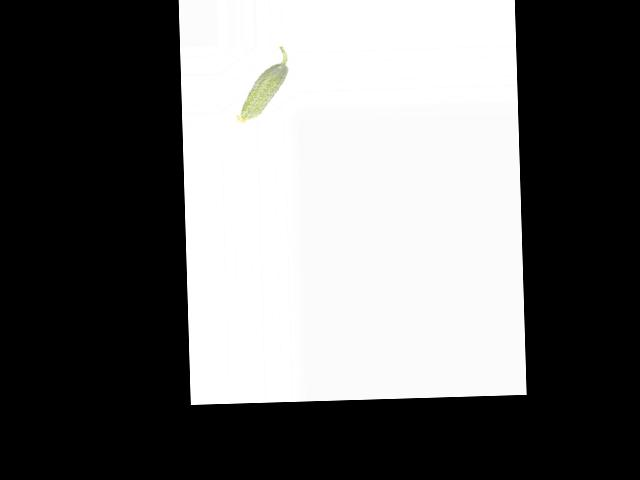cucumber: (233, 47, 290, 123)
